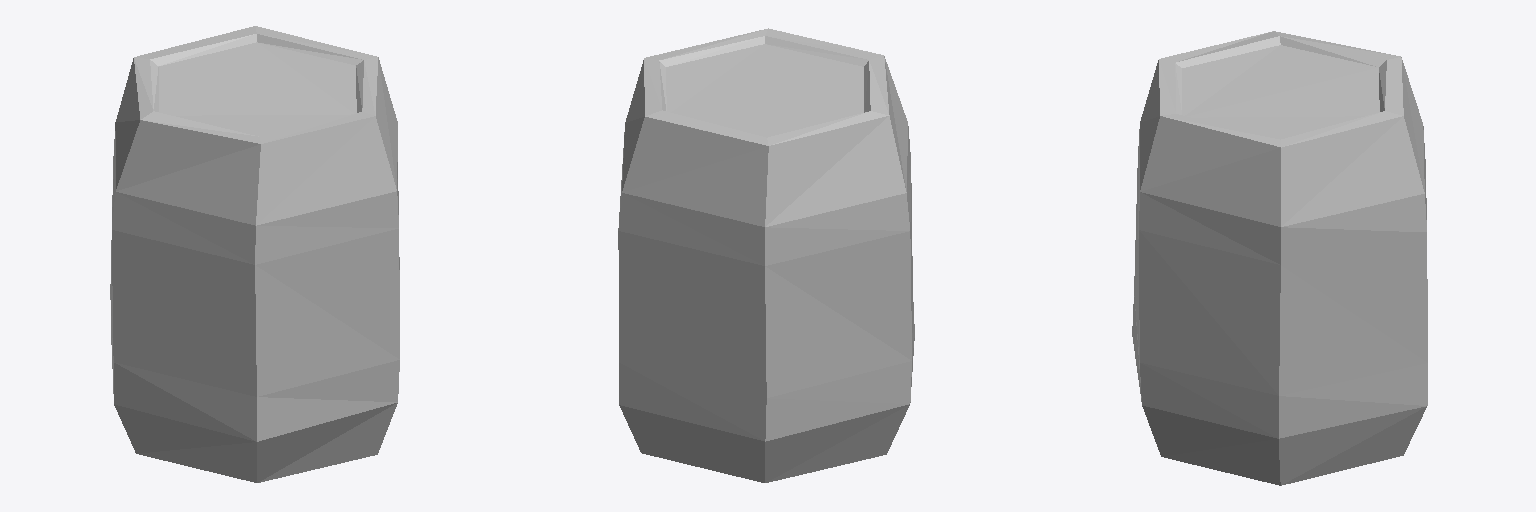
The model's file is barrel.obj.
3 views of the same model, side by side, from view 1: azimuth 30°, elevation 25°; view 2: azimuth 150°, elevation 25°; view 3: azimuth 270°, elevation 25° (orthographic).
Parts seen in each view (by area): view 1: barrel Barrel_grp; view 2: barrel Barrel_grp; view 3: barrel Barrel_grp.
Boxes of the visible parts, x1,y1,x2,y2 form: barrel Barrel_grp: [110, 26, 399, 482]; barrel Barrel_grp: [618, 28, 914, 482]; barrel Barrel_grp: [1132, 31, 1427, 485].
Bounding box in the file's own units: 1.75 × 2 × 1.57.